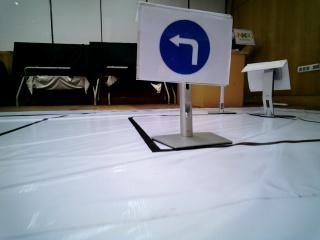left: (139, 5, 230, 88)
